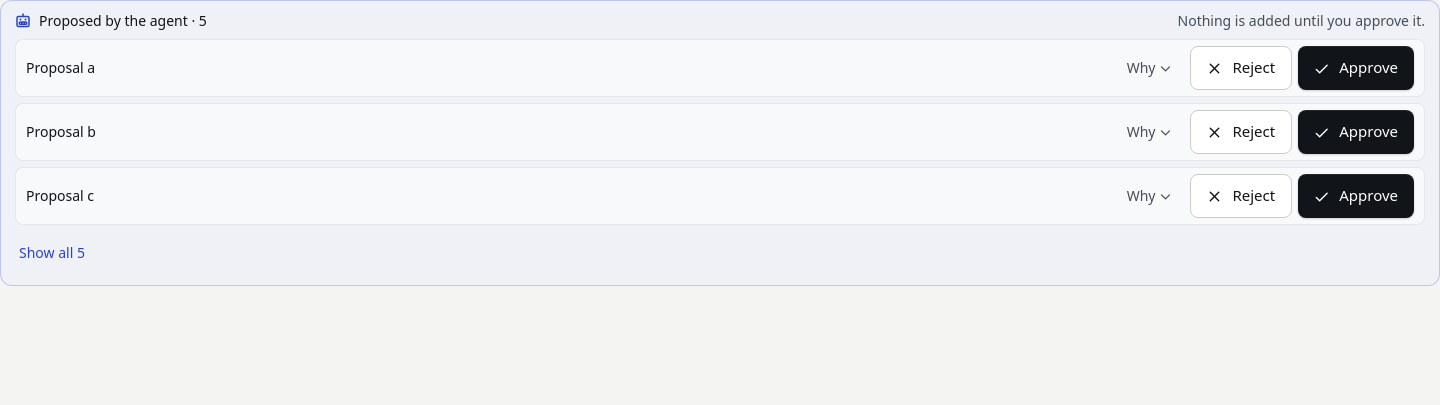
it: ProposalsPanel › bounds visible rows to three and reveals the rest on demand
Expected: the heading "Proposed by the agent · 5" is shown, [39,11,207,31]
Expected: the number of buttons "Why" is 3, [1119,46,1180,90]; [1119,110,1180,154]; [1119,174,1180,218]
Click the button "Show all 5" at (52, 253), box [15,231,89,275]
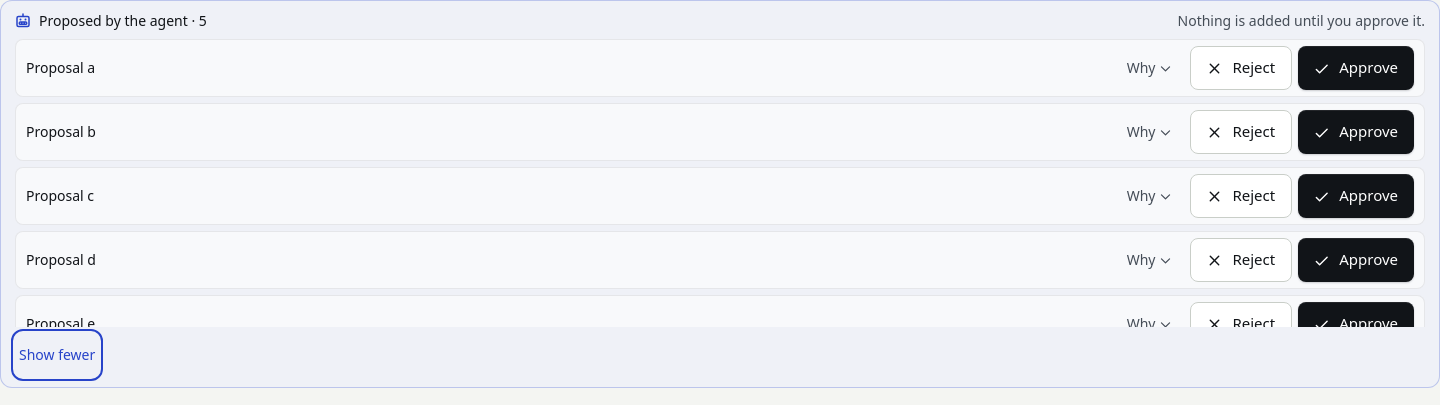
Result: the number of buttons "Why" is 5
Click the button "Show fewer" at (57, 355), box [15,333,99,377]
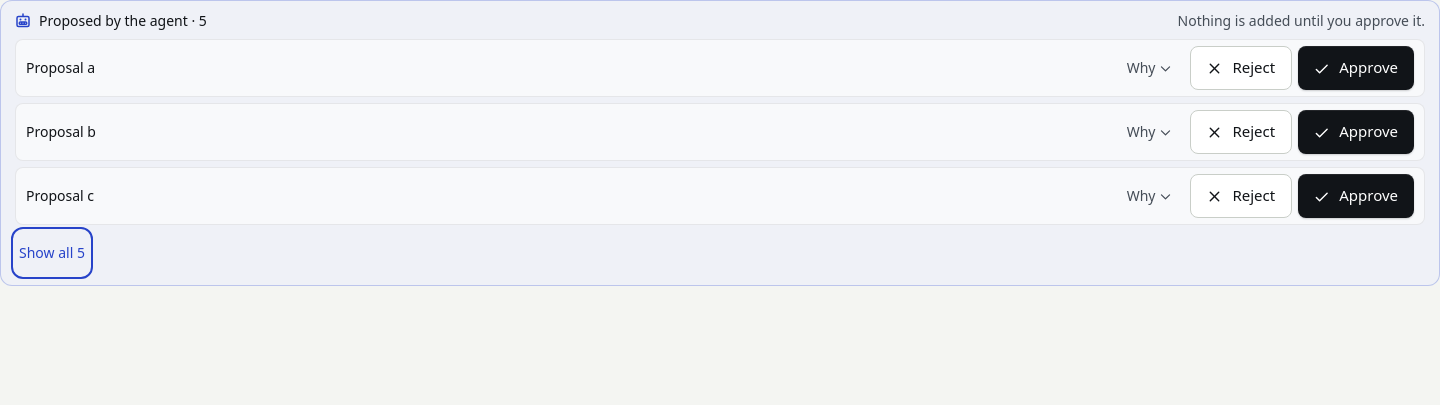
Result: the number of buttons "Why" is 3 at [1119,46,1180,90]; [1119,110,1180,154]; [1119,174,1180,218]
